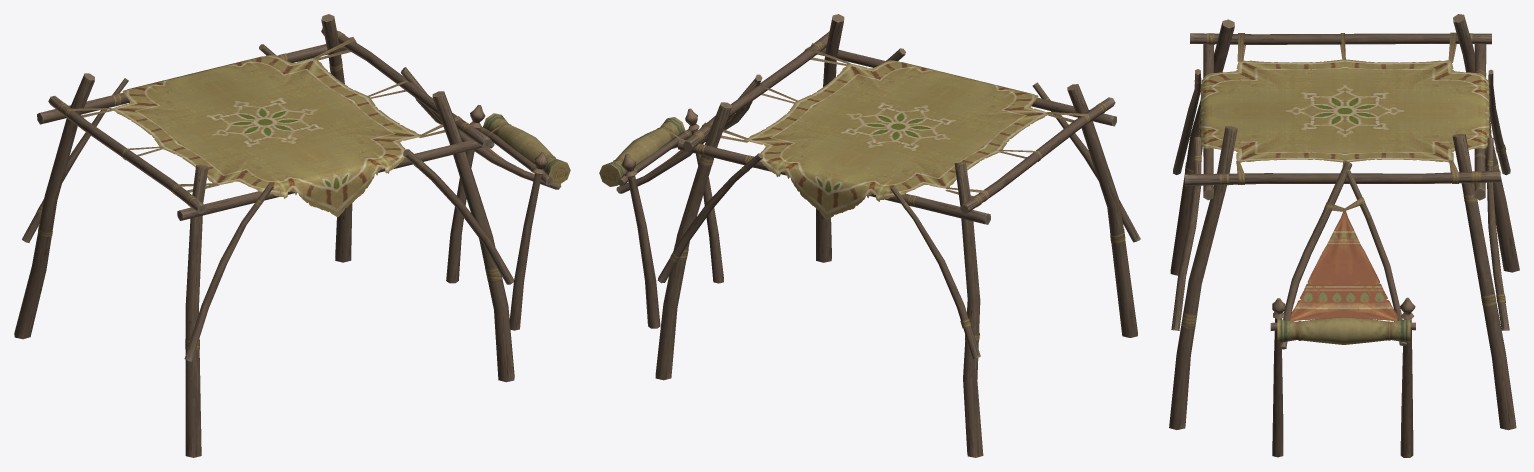
File: Homeworld_Exterior_Xm_Build_WaterShed_01_Lod0.fbx
The picture shows the model from 3 angles, left to right: view 1: azimuth 30°, elevation 25°; view 2: azimuth 150°, elevation 25°; view 3: azimuth 270°, elevation 25°; orthographic projection. The views are drawn at different scales.
Visible parts, largest first — view 1: Homeworld_Exterior_Xm_Build_WaterShed_01_Lod0; view 2: Homeworld_Exterior_Xm_Build_WaterShed_01_Lod0; view 3: Homeworld_Exterior_Xm_Build_WaterShed_01_Lod0.
Part boxes in pixels (x1,y1,x2,y2): Homeworld_Exterior_Xm_Build_WaterShed_01_Lod0: (14,14,570,457); Homeworld_Exterior_Xm_Build_WaterShed_01_Lod0: (599,14,1140,457); Homeworld_Exterior_Xm_Build_WaterShed_01_Lod0: (1169,14,1519,457).
Bounding box in the file's own units: 4.02 × 2.4 × 2.73.
